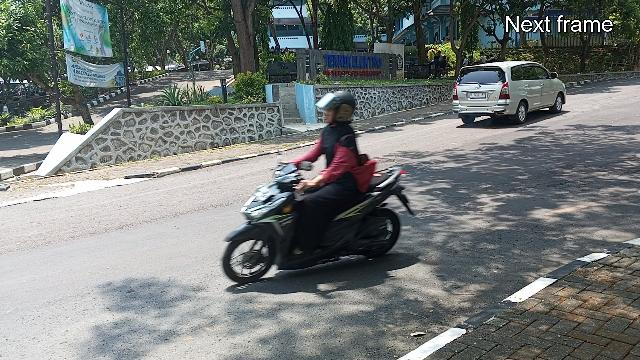helm: (316, 93, 357, 124)
motor: (226, 166, 417, 285)
